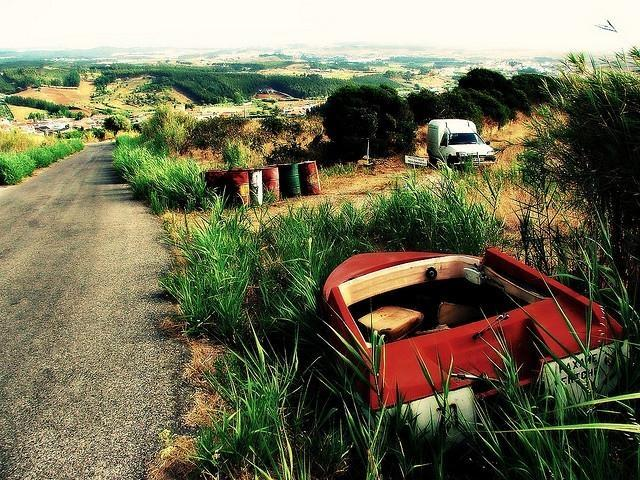truck: (426, 119, 496, 171)
